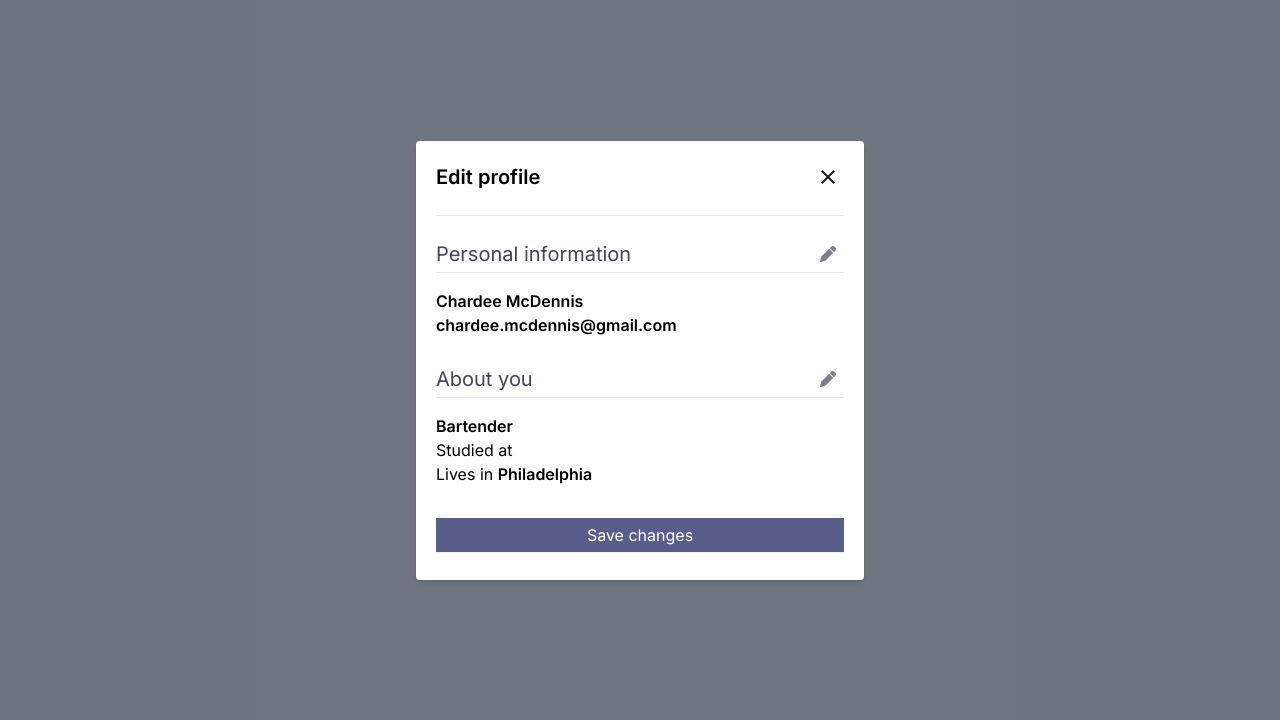
Scenario: Renders profile edit form upon clicking edit btn
This screenshot has width=1280, height=720.
Click edit button on personal info section
Click the button with test id "edit": (828, 254) [816, 242, 840, 266]
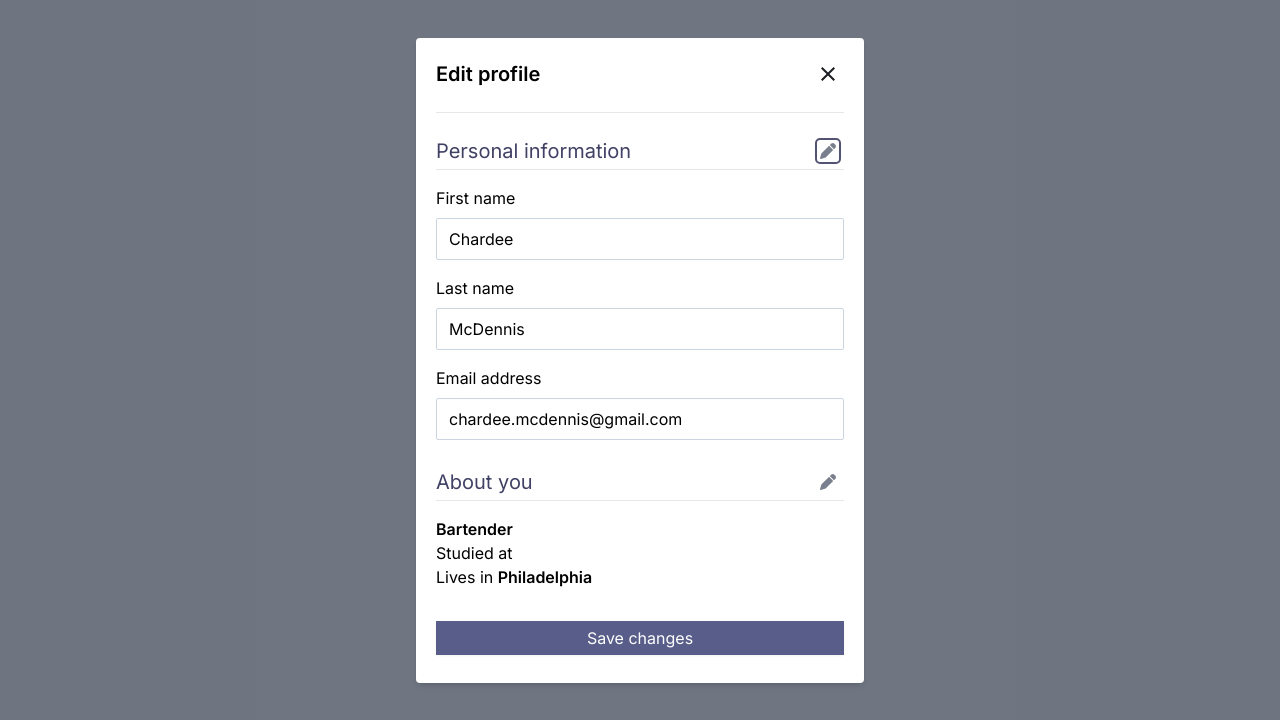
Check: the field labelled "Email address" is shown, box [436, 398, 844, 440]
